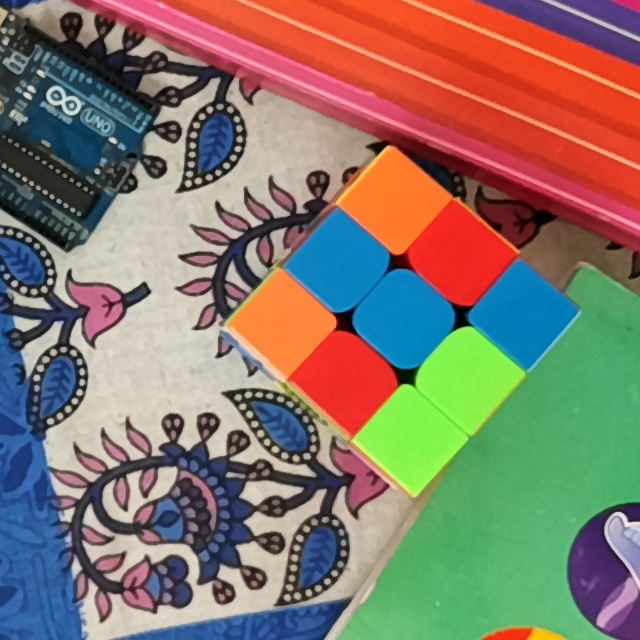tile: (439, 352, 497, 405), (432, 231, 489, 284), (318, 356, 376, 408), (312, 236, 370, 287), (499, 287, 553, 340), (366, 176, 423, 226), (376, 292, 431, 343), (384, 413, 439, 464), (259, 298, 309, 349)
